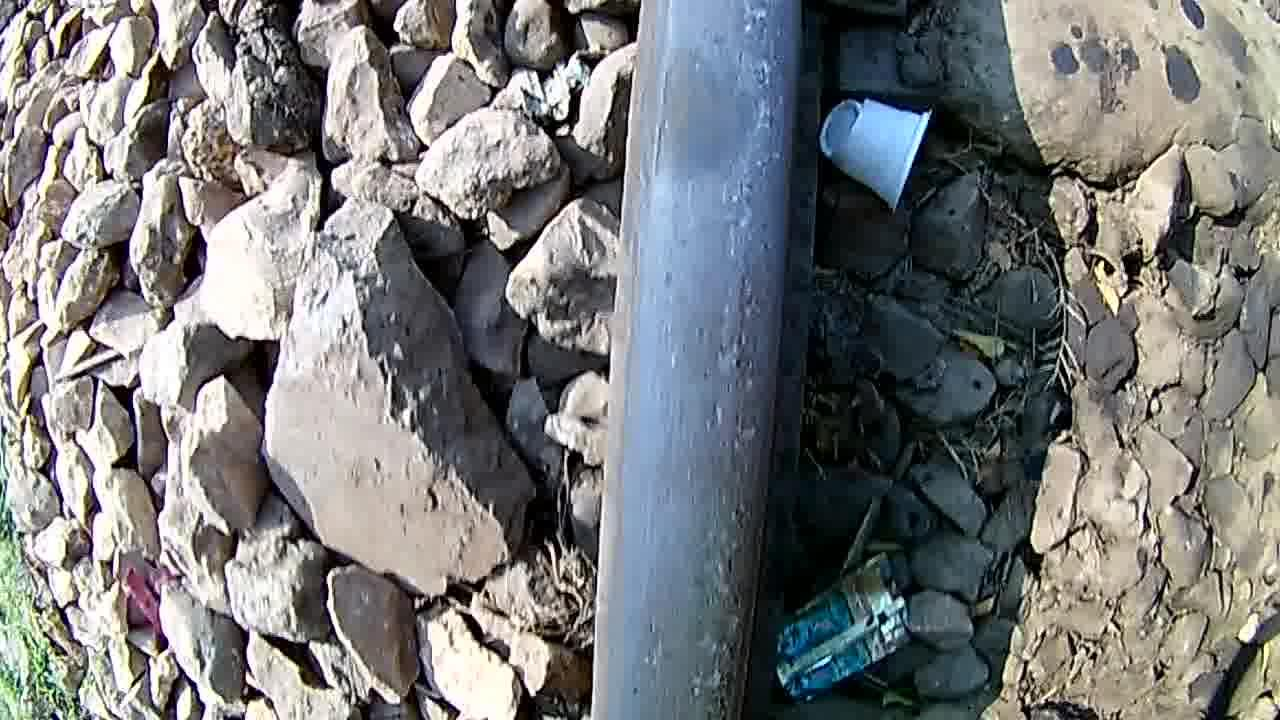bolt_missing: (642, 29, 797, 222)
